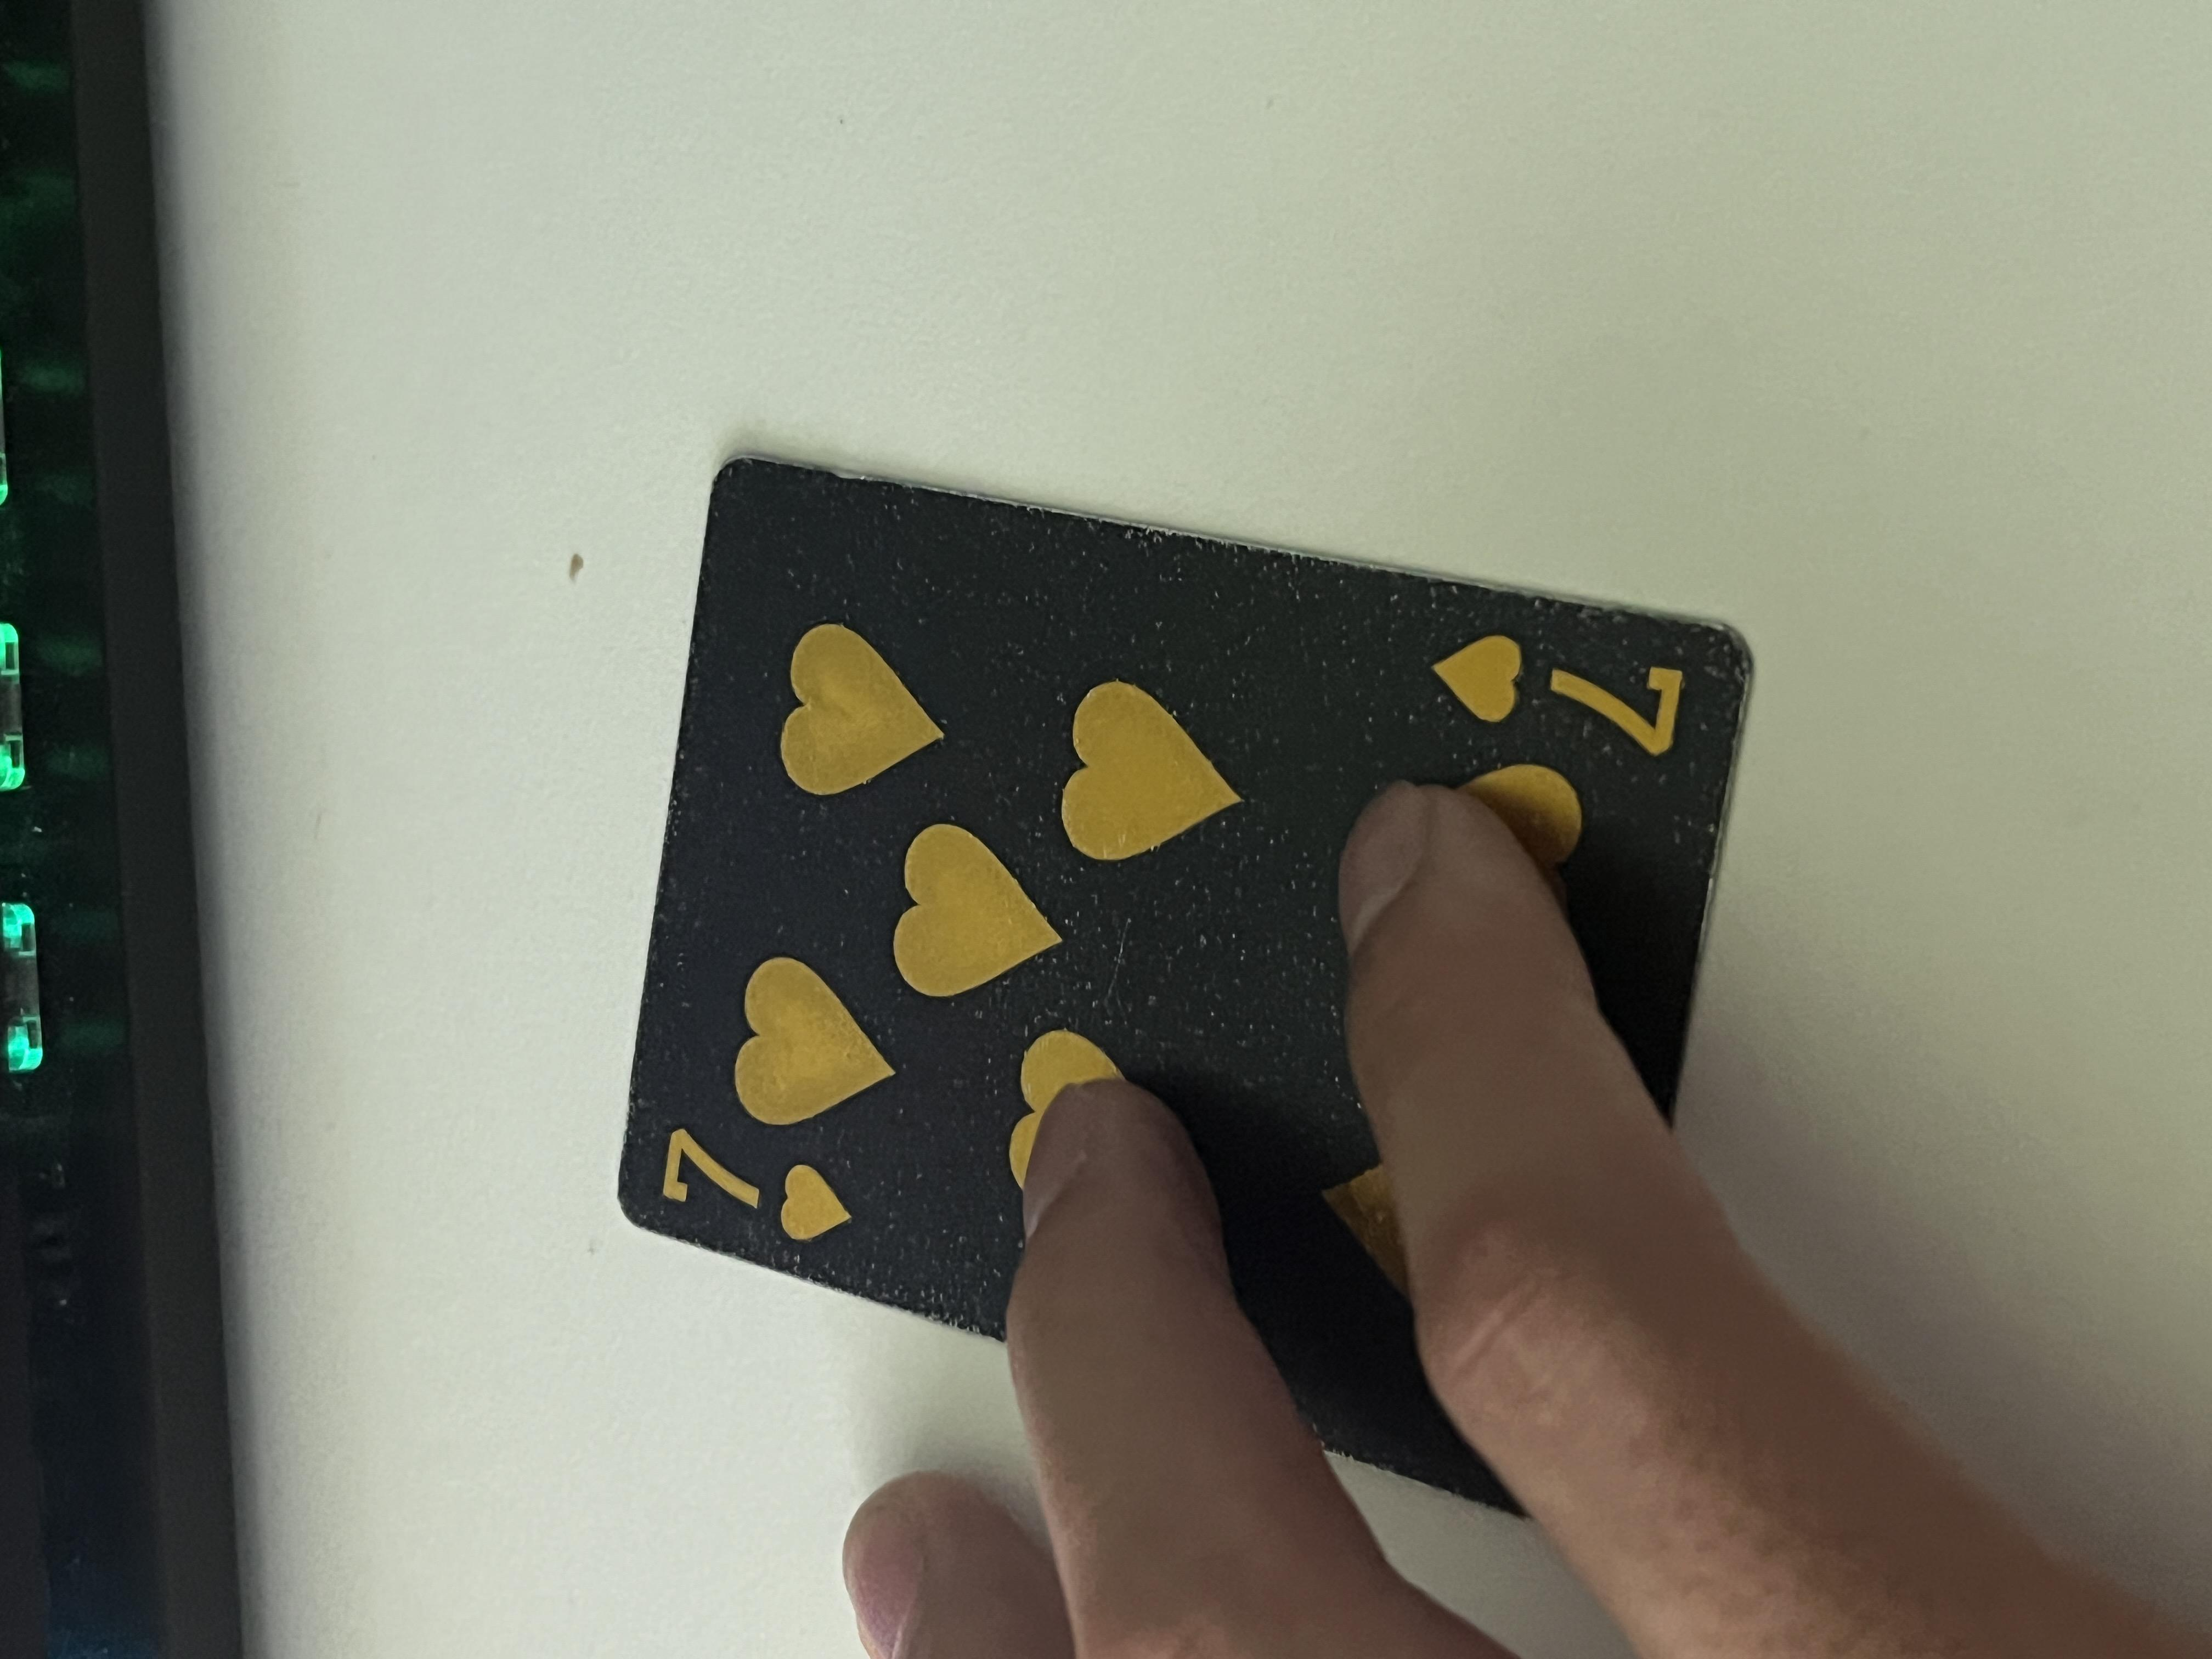7H: (1207, 1063, 1393, 1286), (545, 479, 732, 657)
